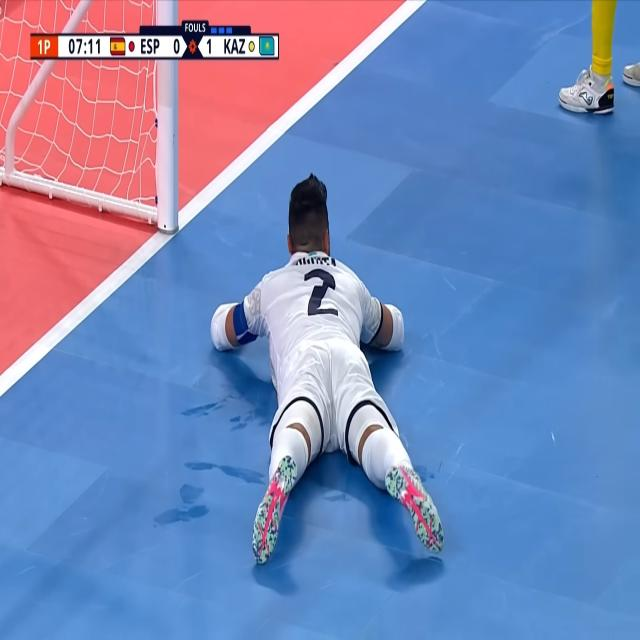Field: (0, 0, 639, 640)
Goal: (0, 0, 189, 233)
Goal-keeper: (212, 175, 448, 557)
